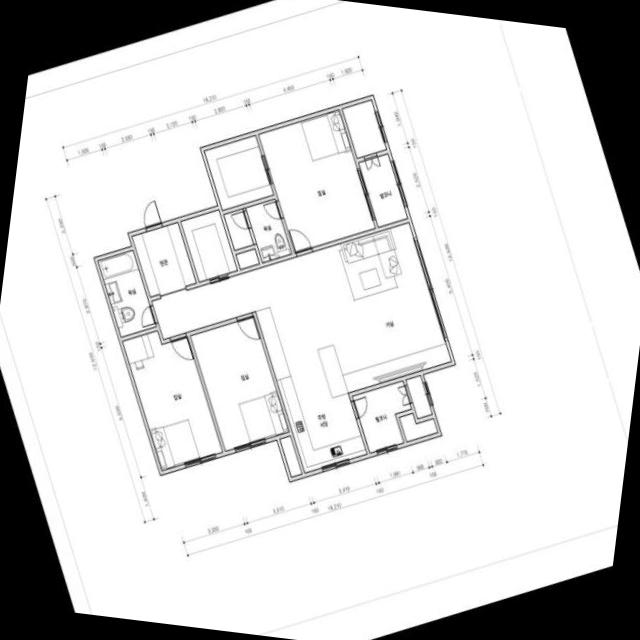background: (0, 0, 640, 640)
space_balconi: (352, 380, 411, 452), (359, 153, 407, 226)
space_bedroom: (258, 109, 375, 252), (122, 330, 222, 470), (190, 316, 289, 451)
space_dressroom: (204, 135, 273, 210)
space_front: (132, 222, 196, 298)
space_kitchen: (255, 291, 367, 472)
space_living_room: (151, 222, 451, 392)
space_other: (180, 209, 237, 281), (342, 99, 386, 158), (224, 209, 253, 250), (406, 375, 432, 418), (399, 413, 437, 441), (280, 435, 302, 476), (236, 249, 259, 269)
space_toilet: (98, 250, 156, 337), (245, 199, 291, 262)
